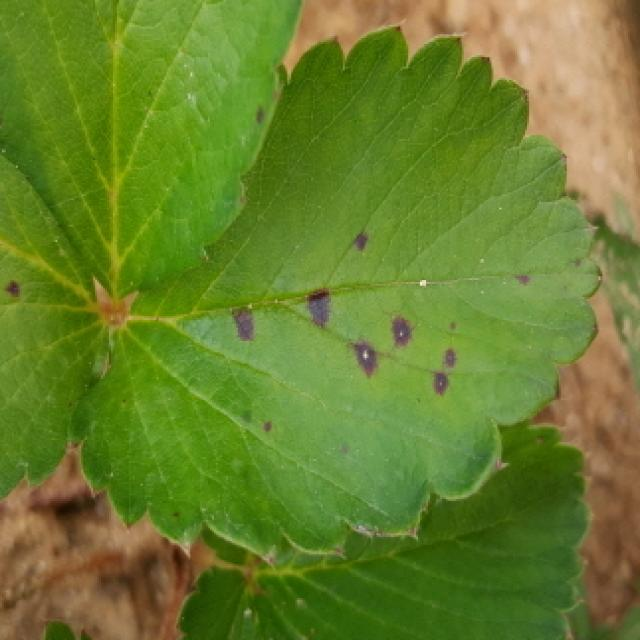Leaf Spot: (68, 23, 606, 564), (0, 151, 109, 503)
